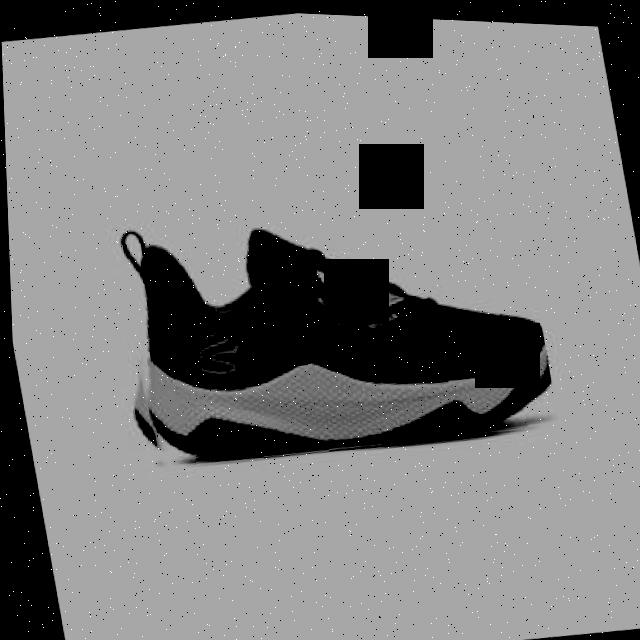shoe: (102, 180, 559, 484)
